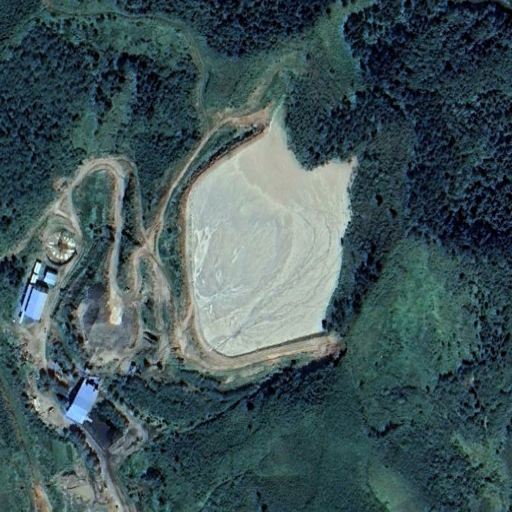tp: (180, 94, 358, 367)
